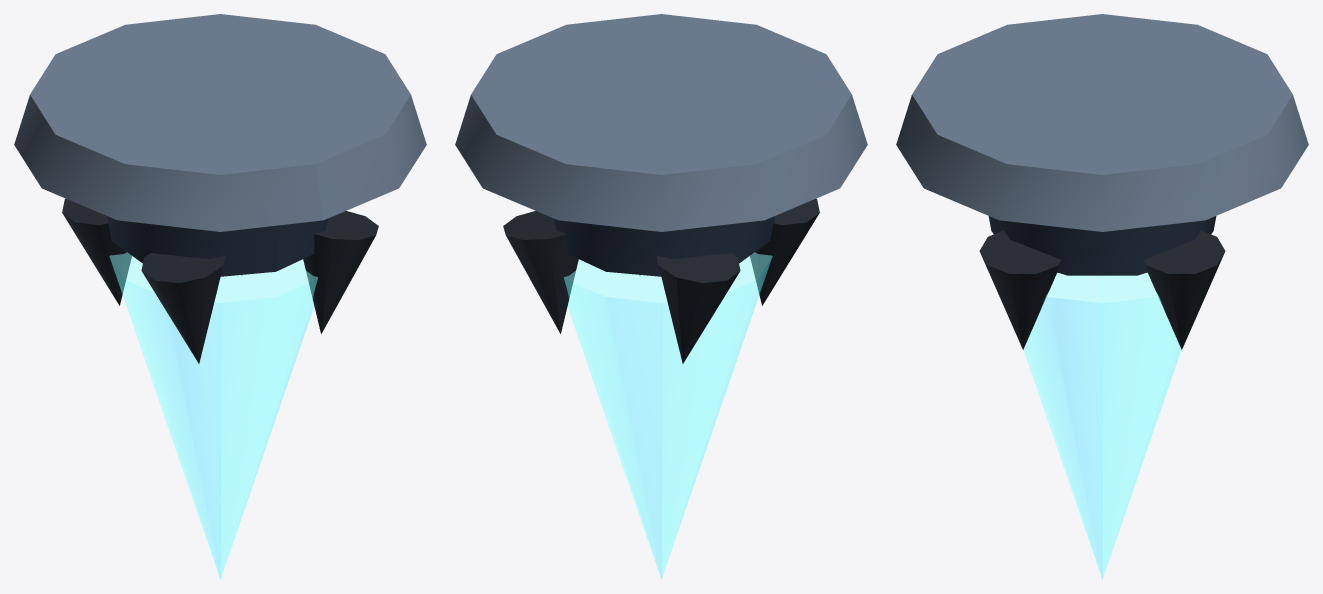
Rendered from eng-cold.glb.
The picture shows the model from 3 angles, left to right: view 1: azimuth 30°, elevation 25°; view 2: azimuth 150°, elevation 25°; view 3: azimuth 270°, elevation 25°; orthographic projection.
Visible parts, largest first — view 1: engine_adapter_flange, plume_cone_outer, cold_manifold_hub, cold_nozzle_2, cold_nozzle_1, cold_nozzle_4; view 2: engine_adapter_flange, plume_cone_outer, cold_manifold_hub, cold_nozzle_4, cold_nozzle_3, cold_nozzle_2; view 3: engine_adapter_flange, plume_cone_outer, cold_manifold_hub, cold_nozzle_1, cold_nozzle_3.
Boxes of the visible parts, x1,y1,x2,y2 form: engine_adapter_flange: (14,14,426,231); plume_cone_outer: (109,252,318,579); cold_manifold_hub: (107,216,328,276); cold_nozzle_2: (141,253,225,363); cold_nozzle_1: (303,211,378,333); cold_nozzle_4: (62,198,131,305); engine_adapter_flange: (455,14,867,231); plume_cone_outer: (563,252,772,579); cold_manifold_hub: (553,216,774,276); cold_nozzle_4: (656,253,740,363); cold_nozzle_3: (503,211,578,333); cold_nozzle_2: (750,198,819,305); engine_adapter_flange: (896,14,1308,231); plume_cone_outer: (1023,273,1181,579); cold_manifold_hub: (988,216,1216,275); cold_nozzle_1: (979,230,1061,349); cold_nozzle_3: (1143,230,1225,349).
Size of the model in its own units: 0.52 by 0.675 by 0.52.
